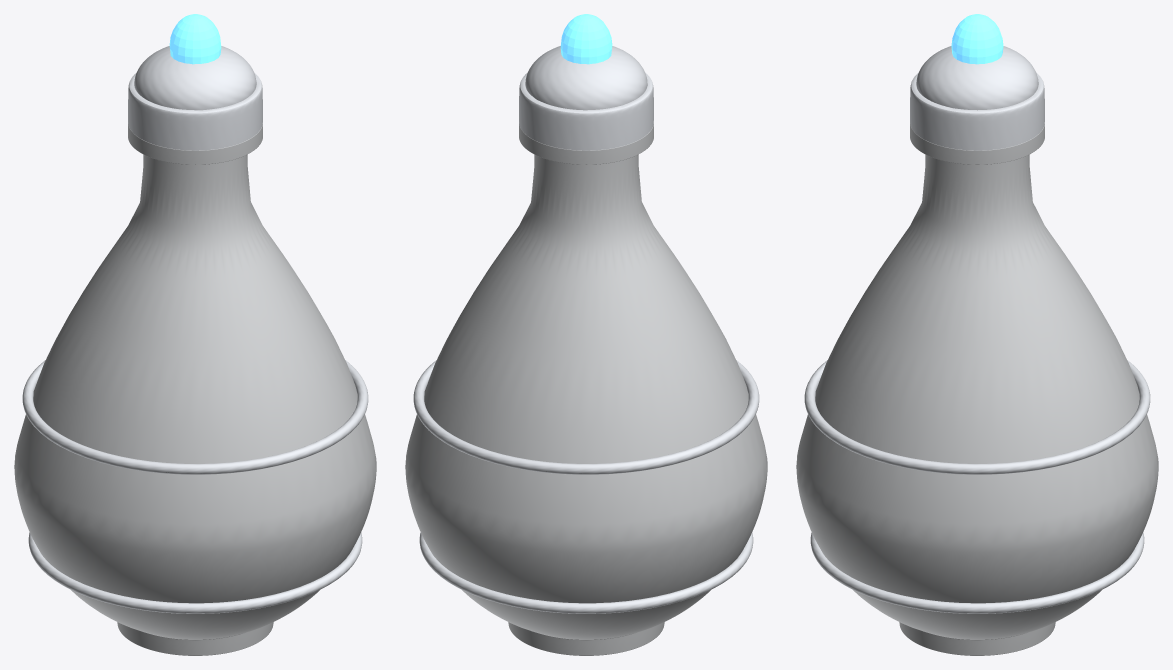
The model's file is manapotion.glb.
3 renders of one model, left to right at view 1: azimuth 30°, elevation 25°; view 2: azimuth 150°, elevation 25°; view 3: azimuth 270°, elevation 25°, orthographic.
Parts seen in each view (by area): view 1: ManaPotion_Glass, ManaPotion_Cap, ManaPotion_CapDome, ManaPotion_SilverBand.001, ManaPotion_SilverBand, ManaPotion_CapGem; view 2: ManaPotion_Glass, ManaPotion_Cap, ManaPotion_CapDome, ManaPotion_SilverBand.001, ManaPotion_SilverBand, ManaPotion_CapGem; view 3: ManaPotion_Glass, ManaPotion_Cap, ManaPotion_CapDome, ManaPotion_SilverBand.001, ManaPotion_SilverBand, ManaPotion_CapGem.
Boxes of the visible parts, <box> form: ManaPotion_Glass: <box>14,123,376,655</box>; ManaPotion_Cap: <box>128,73,262,150</box>; ManaPotion_CapDome: <box>134,46,256,110</box>; ManaPotion_SilverBand.001: <box>22,360,368,474</box>; ManaPotion_SilverBand: <box>28,532,362,613</box>; ManaPotion_CapGem: <box>169,14,221,64</box>; ManaPotion_Glass: <box>405,121,767,655</box>; ManaPotion_Cap: <box>519,72,653,150</box>; ManaPotion_CapDome: <box>525,46,647,110</box>; ManaPotion_SilverBand.001: <box>413,360,759,474</box>; ManaPotion_SilverBand: <box>419,532,753,613</box>; ManaPotion_CapGem: <box>560,14,612,64</box>; ManaPotion_Glass: <box>796,122,1158,655</box>; ManaPotion_Cap: <box>910,72,1044,150</box>; ManaPotion_CapDome: <box>916,46,1038,110</box>; ManaPotion_SilverBand.001: <box>804,360,1150,474</box>; ManaPotion_SilverBand: <box>810,532,1144,613</box>; ManaPotion_CapGem: <box>951,14,1003,64</box>.
Bounding box in the file's own units: 1.39 × 2.57 × 1.39.
